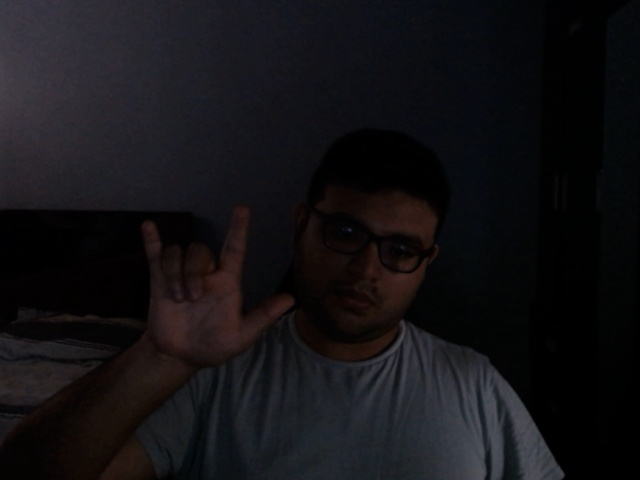I love you: (126, 201, 296, 376)
